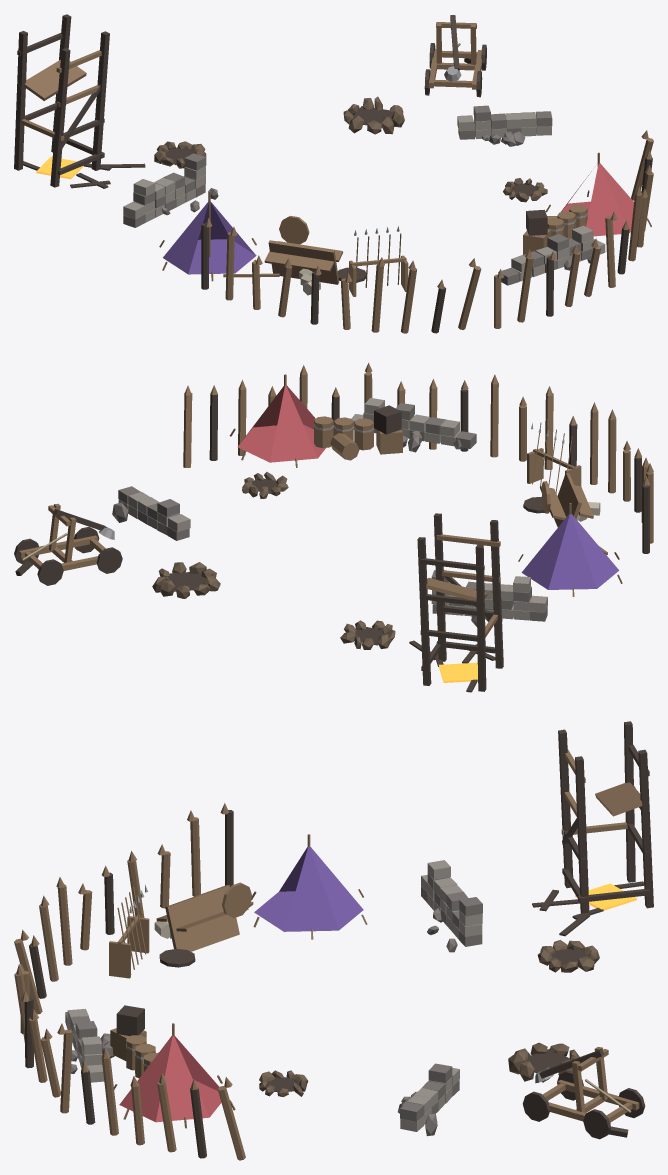
The model's file is war_props.glb.
The picture shows the model from 3 angles, top to bottom: view 1: azimuth 30°, elevation 25°; view 2: azimuth 150°, elevation 25°; view 3: azimuth 270°, elevation 25°; orthographic projection. The views are drawn at different scales.
Parts seen in each view (by area): view 1: palisade, siege_tower, cart_overturned, tent_violet, wall_left, wall_right, catapult_wreck, tent_gold, wall_back, supplies, crater_a, weapon_rack (+2 smaller); view 2: palisade, siege_tower, tent_violet, catapult_wreck, tent_gold, supplies, wall_back, wall_left, wall_right, cart_overturned, crater_a, weapon_rack (+2 smaller); view 3: palisade, siege_tower, tent_violet, catapult_wreck, cart_overturned, tent_gold, wall_left, wall_right, supplies, wall_back, weapon_rack, crater_a (+2 smaller).
Boxes of the visible parts, bbox=[...] form: palisade: bbox=[201, 130, 653, 333]; siege_tower: bbox=[14, 14, 145, 188]; cart_overturned: bbox=[223, 216, 366, 295]; tent_violet: bbox=[159, 191, 256, 281]; wall_left: bbox=[123, 153, 218, 227]; wall_right: bbox=[457, 105, 552, 146]; catapult_wreck: bbox=[424, 15, 486, 97]; tent_gold: bbox=[545, 152, 651, 236]; wall_back: bbox=[498, 225, 605, 285]; supplies: bbox=[523, 204, 587, 254]; crater_a: bbox=[343, 96, 404, 134]; weapon_rack: bbox=[349, 226, 408, 296]; palisade: bbox=[183, 363, 653, 553]; siege_tower: bbox=[409, 513, 503, 692]; tent_violet: bbox=[518, 503, 622, 596]; catapult_wreck: bbox=[14, 503, 122, 585]; tent_gold: bbox=[229, 374, 325, 467]; supplies: bbox=[313, 405, 402, 460]; wall_back: bbox=[351, 398, 476, 452]; wall_left: bbox=[431, 570, 547, 626]; wall_right: bbox=[112, 486, 190, 540]; cart_overturned: bbox=[523, 472, 607, 555]; crater_a: bbox=[152, 562, 220, 598]; weapon_rack: bbox=[527, 422, 581, 493]; palisade: bbox=[14, 803, 245, 1160]; siege_tower: bbox=[532, 721, 653, 936]; tent_violet: bbox=[251, 834, 367, 939]; catapult_wreck: bbox=[522, 1047, 645, 1139]; cart_overturned: bbox=[154, 882, 253, 967]; tent_gold: bbox=[114, 1023, 235, 1128]; wall_left: bbox=[421, 860, 482, 952]; wall_right: bbox=[398, 1063, 459, 1136]; supplies: bbox=[110, 1005, 158, 1078]; wall_back: bbox=[65, 1008, 114, 1082]; weapon_rack: bbox=[109, 885, 149, 978]; crater_a: bbox=[508, 1042, 581, 1082].
Bounding box in the file's own units: 17.05 × 5.72 × 17.45.
